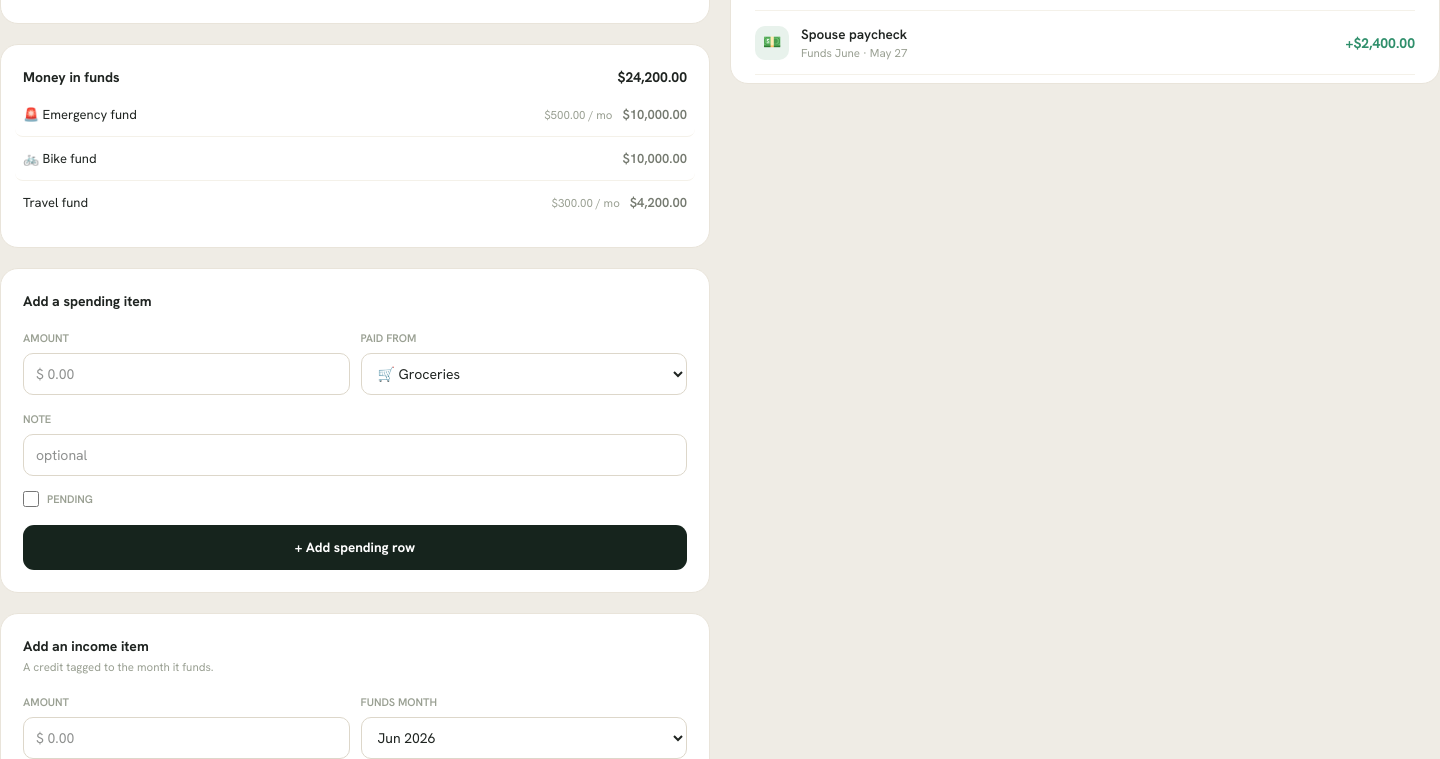
it: Add a spending item › refreshes the funds card after a spend draws a fund down
The image size is (1440, 759).
(page scrolled)
Select "🚨 Emergency fund" in the dropdown labelled "Paid from": (524, 374) x1=360 y1=353 x2=687 y2=395
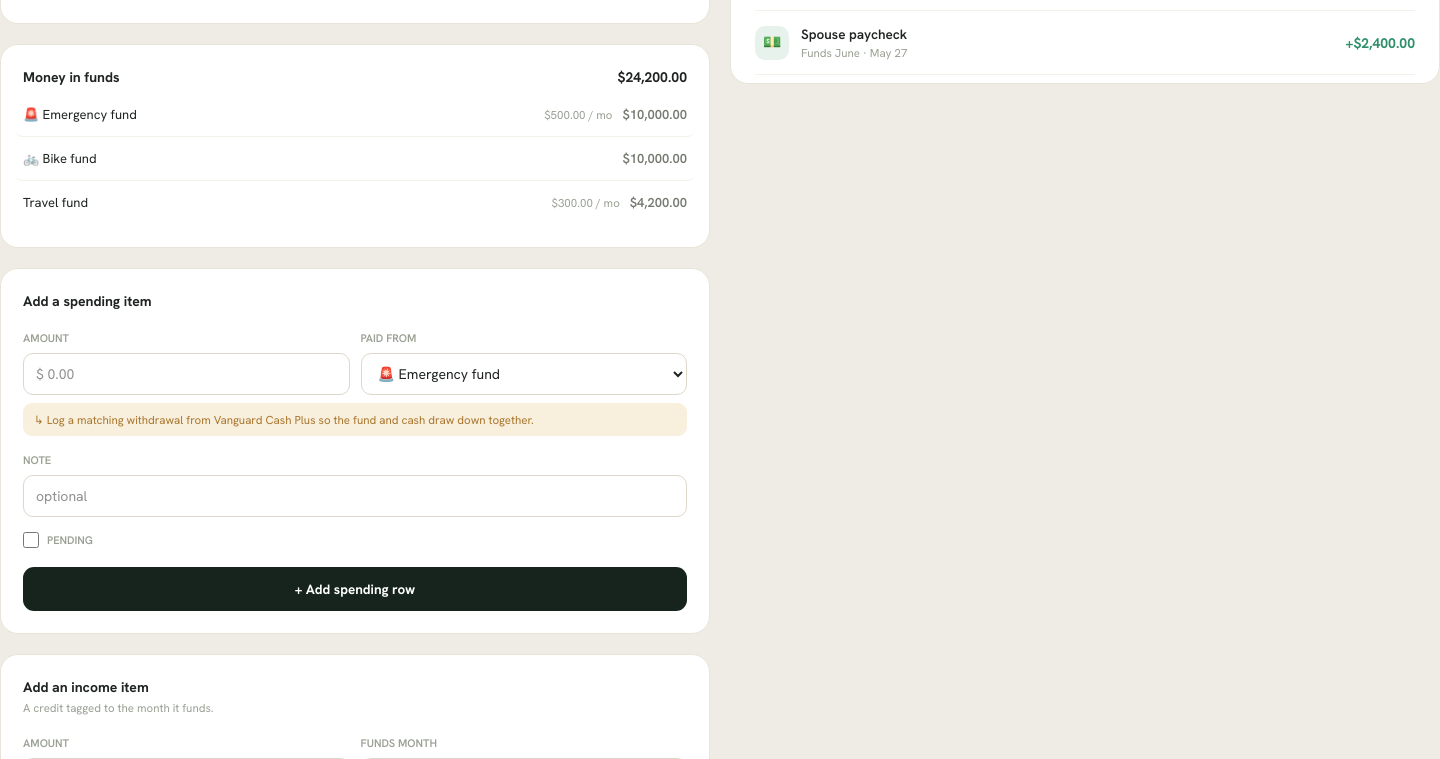
In the field labelled "Amount" below "Paid from": (186, 374) x1=23 y1=353 x2=350 y2=395, type "1,200"
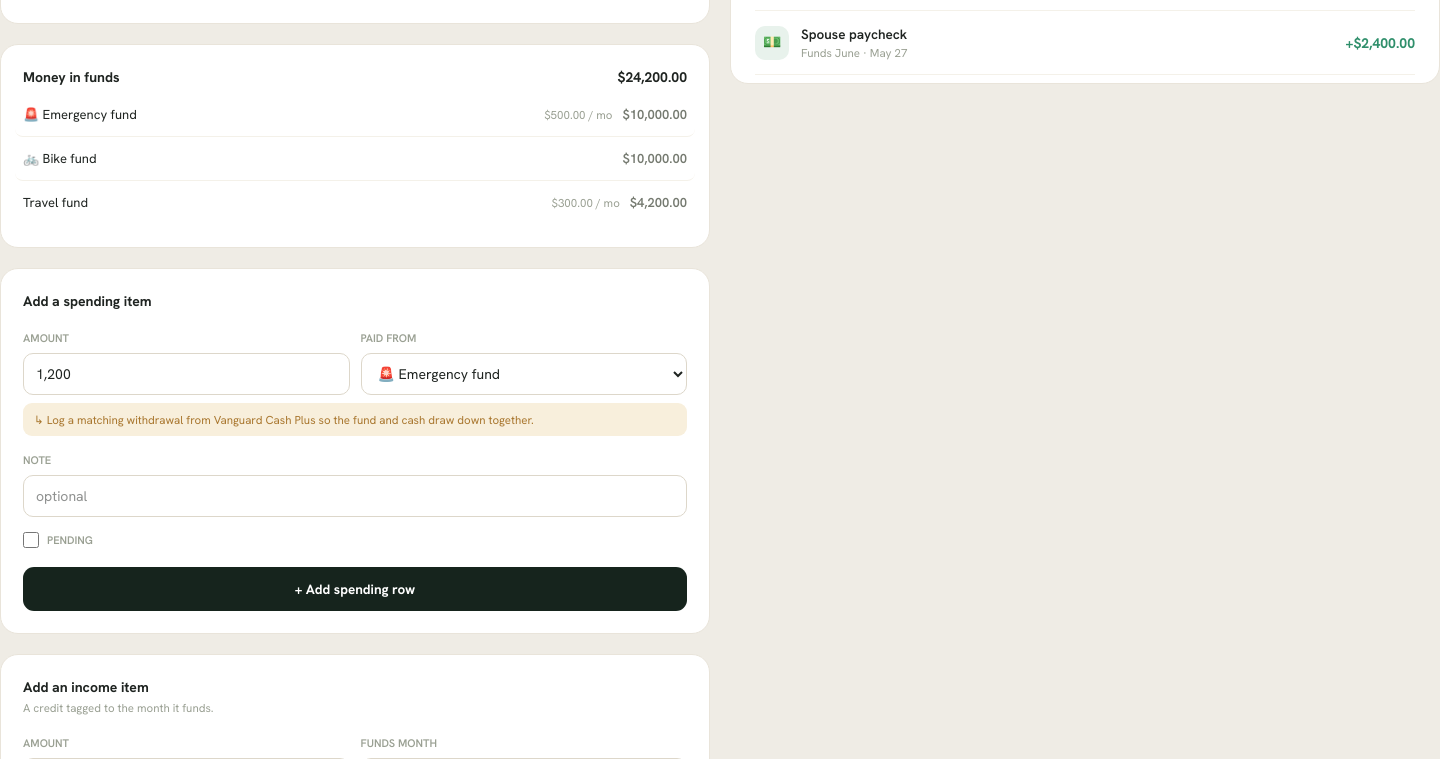
Click the button "+ Add spending row": (355, 589) x1=23 y1=566 x2=687 y2=611
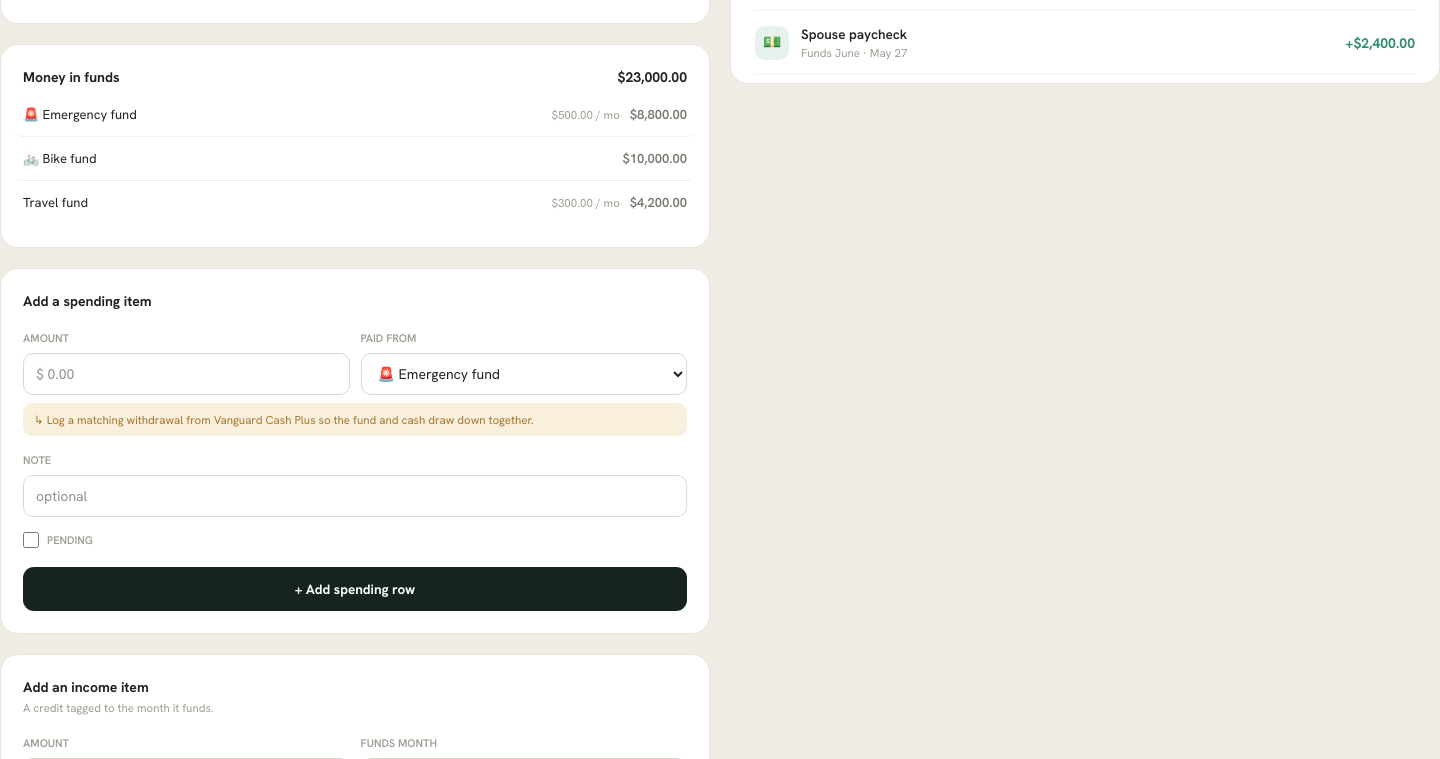
expect the text "$8,800.00" is shown: met, box x1=630 y1=104 x2=687 y2=124
